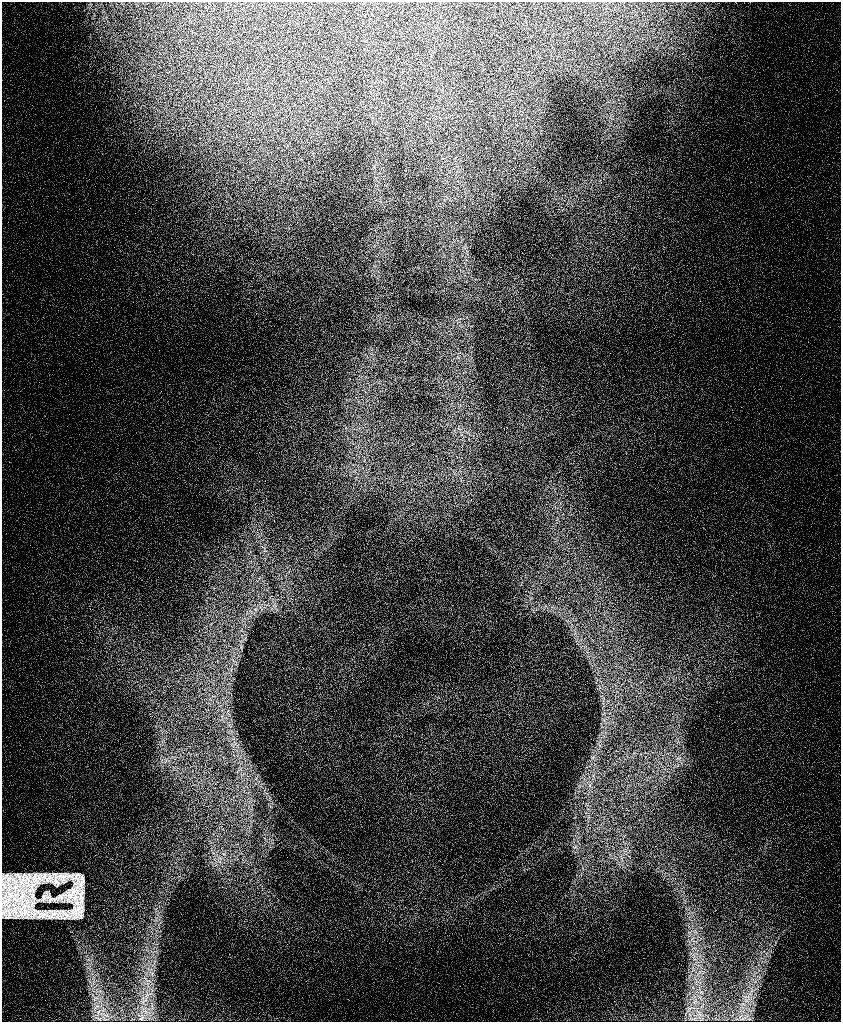lumbar scoliosis: (324, 23, 486, 513)
